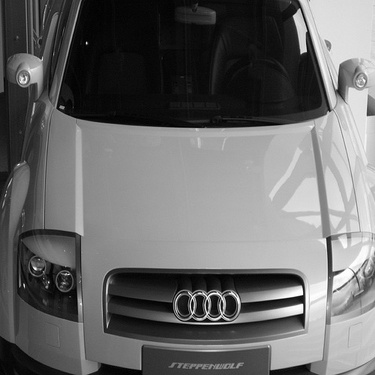car: (1, 8, 365, 362)
